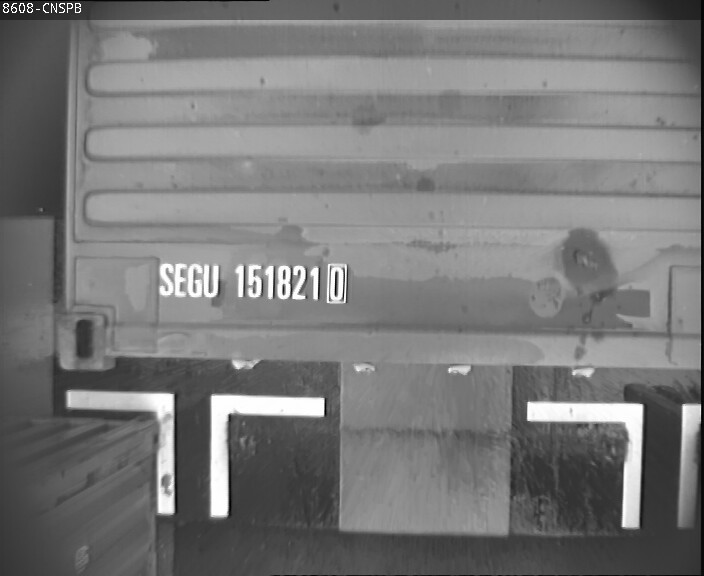groundmarker_1: (67, 389, 323, 515), (528, 402, 703, 527)
